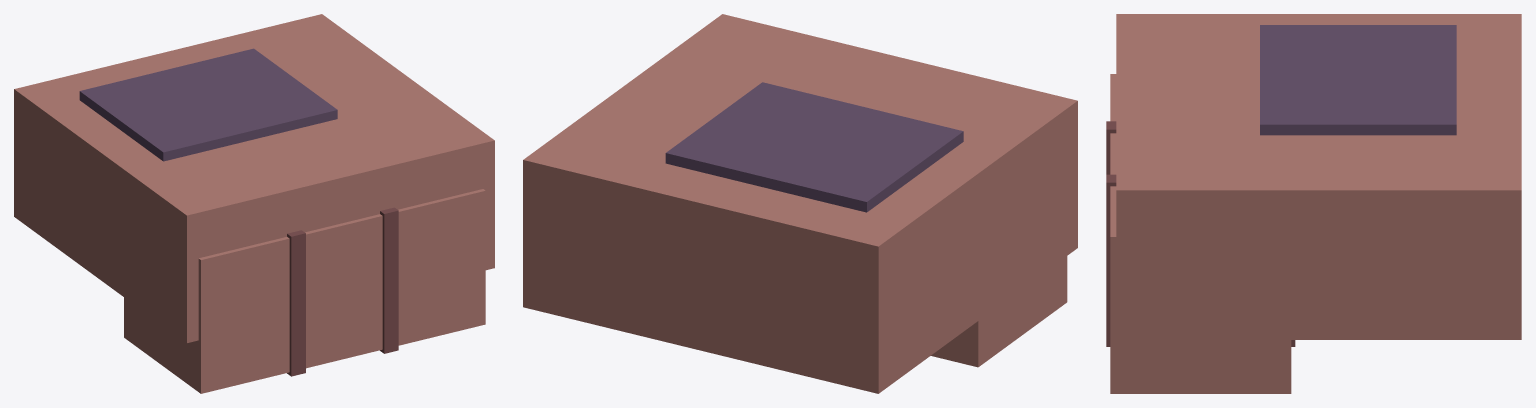
File: inf_v2_walker_hand_r.fbx
3 renders of one model, left to right at view 1: azimuth 30°, elevation 25°; view 2: azimuth 150°, elevation 25°; view 3: azimuth 270°, elevation 25°, orthographic. The views are drawn at different scales.
Parts seen in each view (by area): view 1: inf_v2_walker_hand_r; view 2: inf_v2_walker_hand_r; view 3: inf_v2_walker_hand_r.
Boxes of the visible parts, left/top/right/bottom form: inf_v2_walker_hand_r: left=14, top=14, right=494, bottom=393; inf_v2_walker_hand_r: left=523, top=14, right=1077, bottom=393; inf_v2_walker_hand_r: left=1106, top=14, right=1521, bottom=393.
Bounding box in the file's own units: 106 × 63 × 106.
